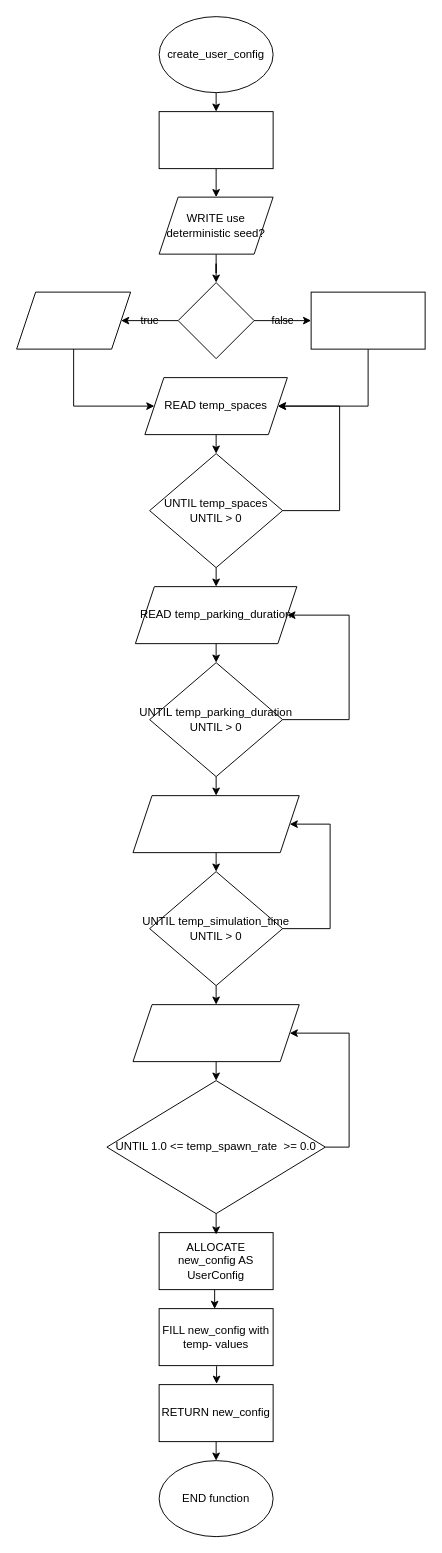
Image size: 442x1553. Some labels were removed from this diagram. Each missing label, with the box of its shape:
declaration variable: (158, 111, 273, 169)
deterministic?: (177, 282, 254, 359)
READ temp_seed: (16, 291, 131, 349)
READ temp_simulation_time: (132, 795, 299, 853)
READ temp_spawn_rate: (132, 1004, 299, 1062)
temp_seed = current_time(): (310, 291, 425, 349)
